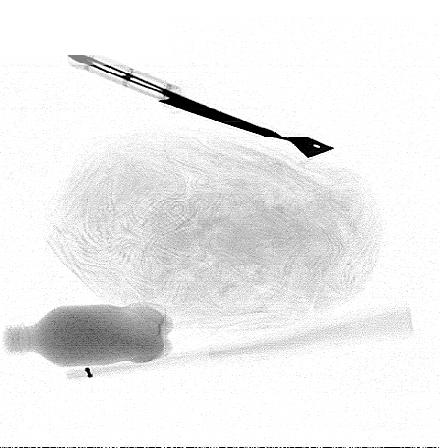Knife: (66, 54, 335, 159)
